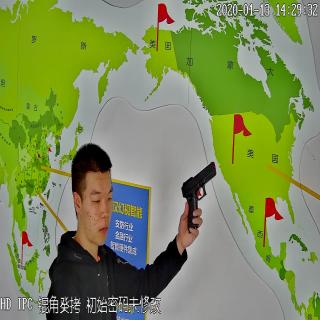gun: (181, 162, 217, 236)
